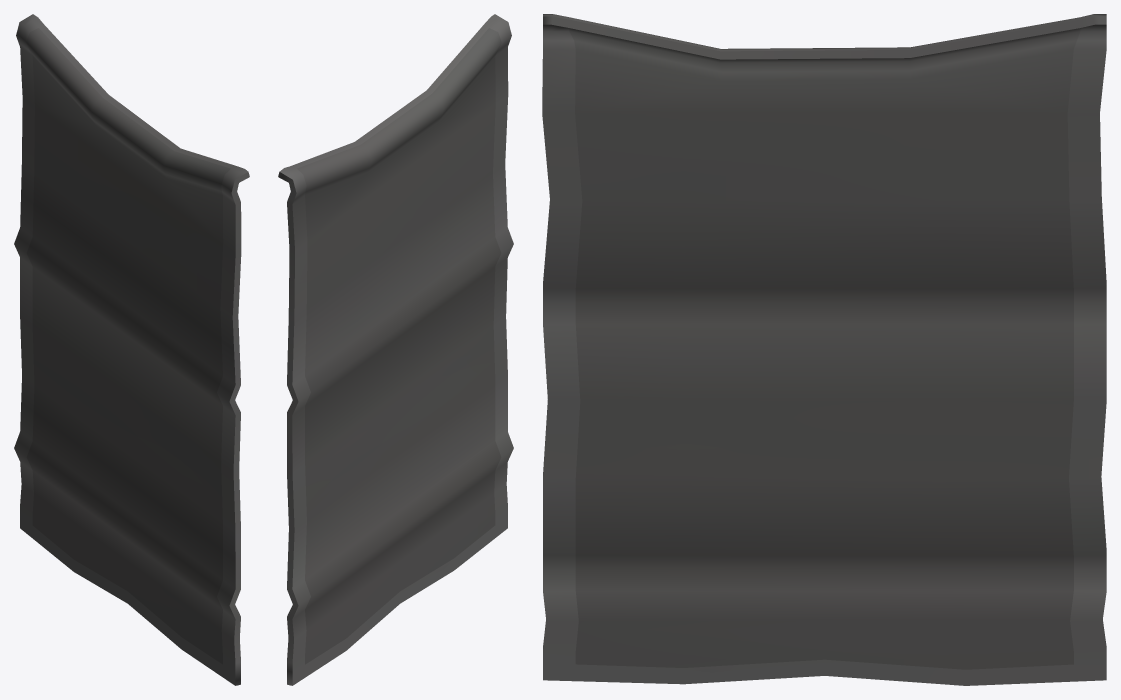
Rendered from Scaffold_sheet_2_1.fbx.
The picture shows the model from 3 angles, left to right: view 1: azimuth 30°, elevation 25°; view 2: azimuth 150°, elevation 25°; view 3: azimuth 270°, elevation 25°; orthographic projection. The views are drawn at different scales.
Visible parts, largest first — view 1: Scaffold_sheet_2_1; view 2: Scaffold_sheet_2_1; view 3: Scaffold_sheet_2_1.
Part boxes in pixels (box(x1,y1,x2,y2)): Scaffold_sheet_2_1: box(14, 14, 249, 685); Scaffold_sheet_2_1: box(278, 14, 513, 685); Scaffold_sheet_2_1: box(542, 14, 1106, 685).
Size of the model in its own units: 10.1 by 242 by 184.
